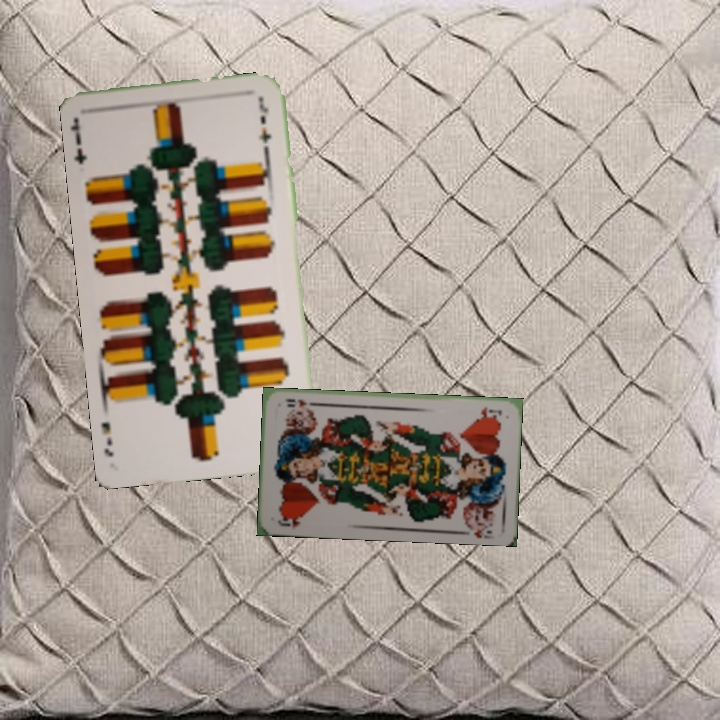E7: (68, 115, 89, 167)
HO: (274, 512, 306, 531), (477, 402, 505, 420)
